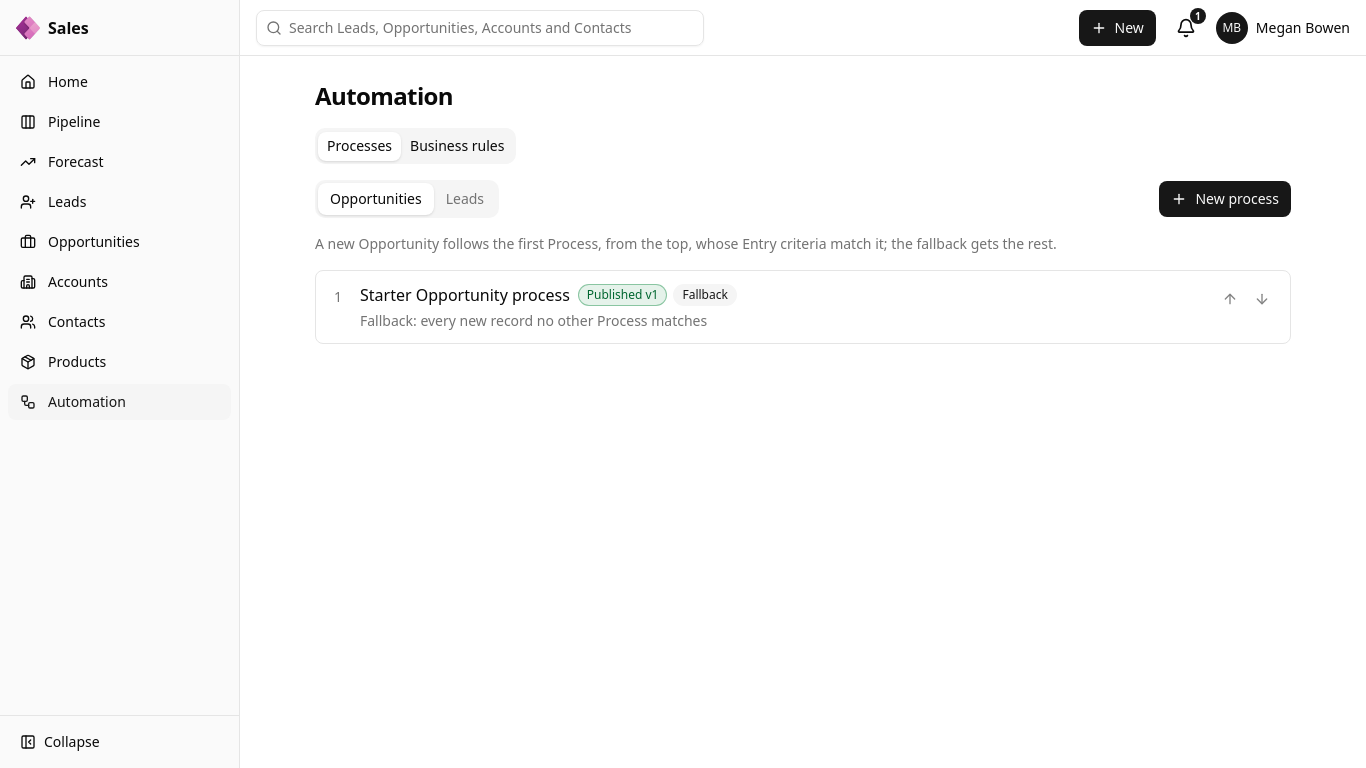
it: the Business rules tab › counts the rules of each table on its tab
Click the tab "Business rules" at (457, 146), box [401, 132, 513, 160]
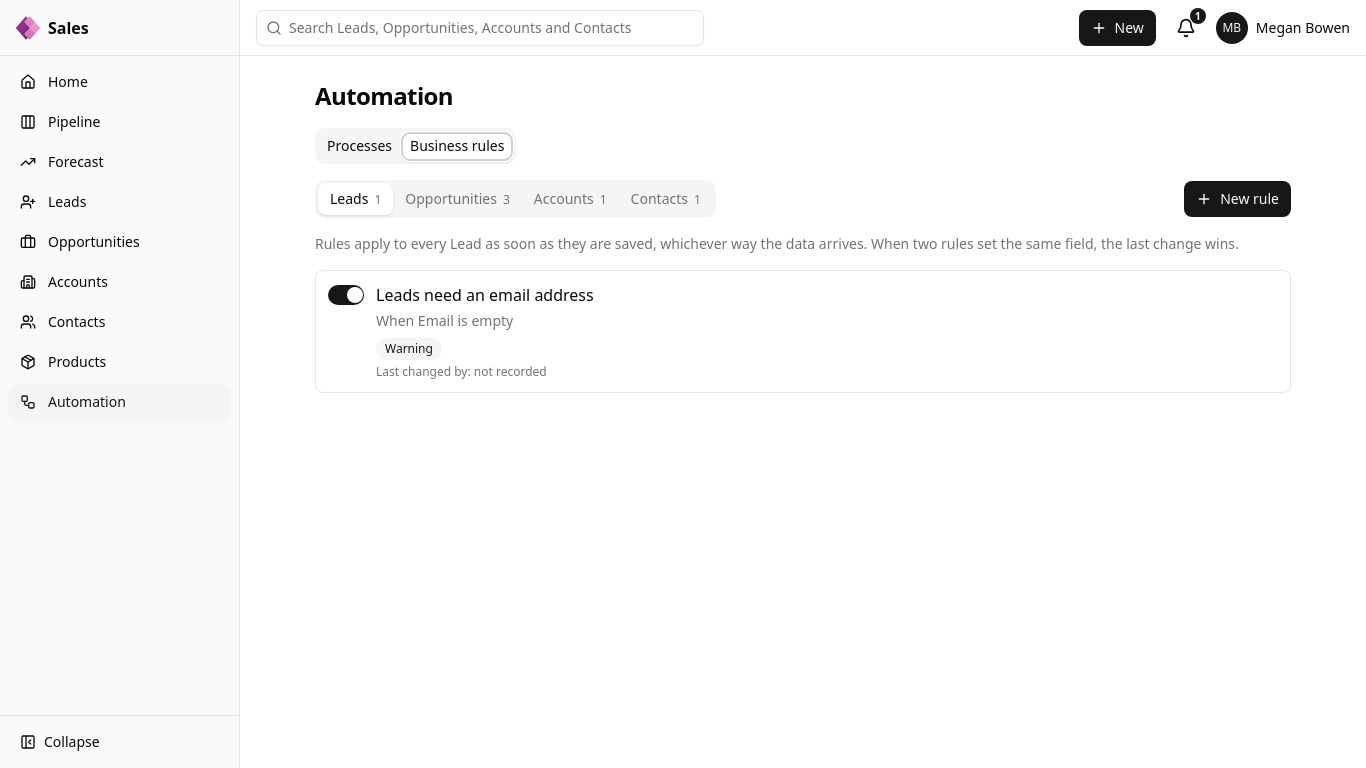
Now the button "Opportunities3" is shown, box [393, 183, 522, 215]
Now the button "Leads1" is shown, box [318, 183, 393, 215]
Now the button "Accounts1" is shown, box [522, 183, 619, 215]
